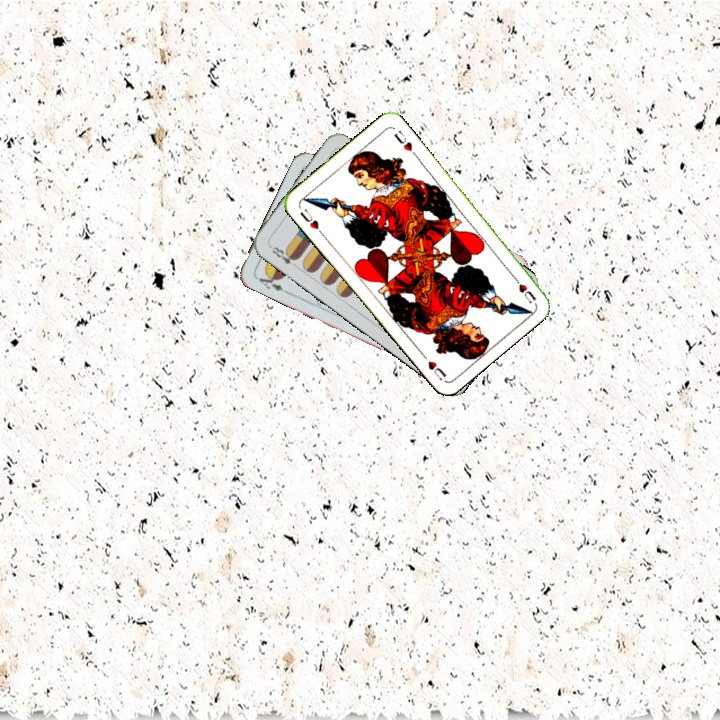E8: (266, 242, 300, 271)
EA: (252, 269, 290, 296)
HU: (508, 271, 539, 306), (295, 204, 325, 237)
